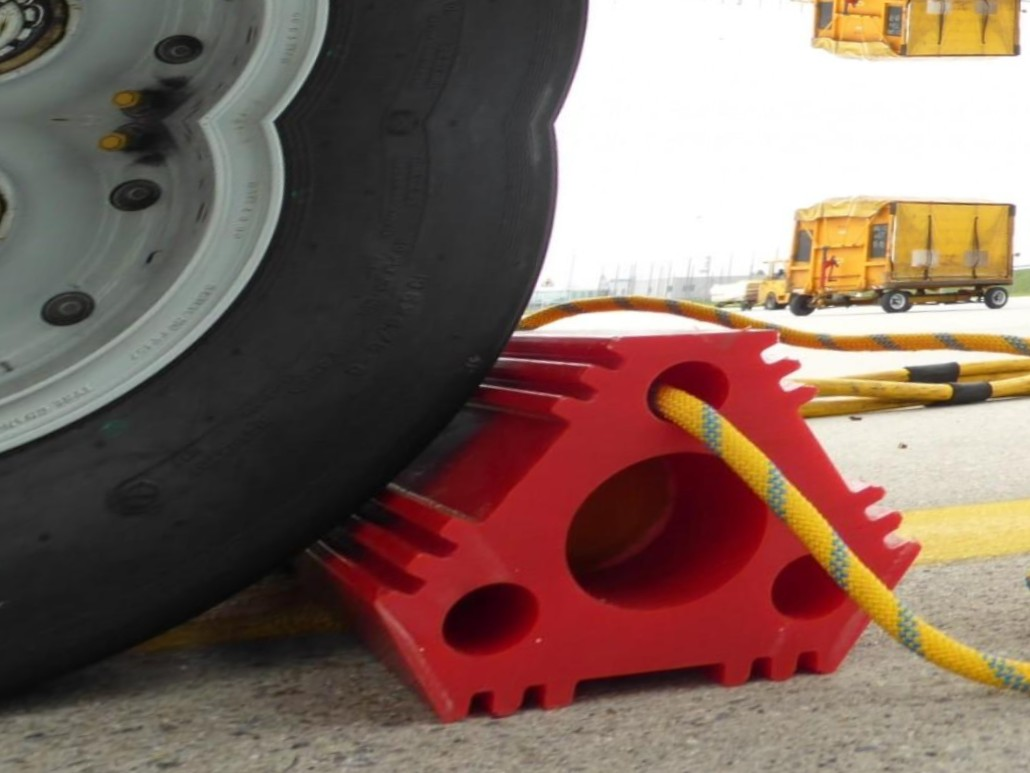chock: (239, 295, 935, 773)
wheel: (0, 107, 574, 773), (0, 0, 605, 138), (880, 288, 911, 313), (789, 291, 816, 316), (983, 285, 1007, 310), (759, 289, 783, 312)
